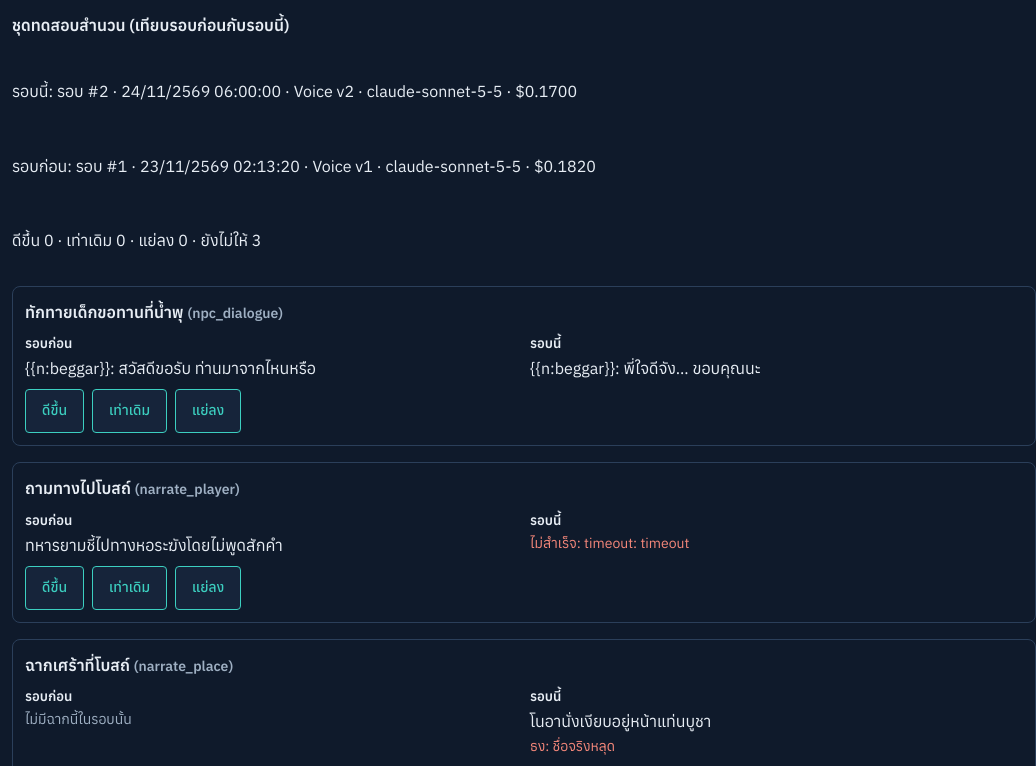
Test case: GEN-167 style eval page › C3: Nok marks better / same / worse; pressing the same again clears it; the summary follows
Click the button "ดีขึ้น" below "ทักทายเด็กขอทานที่น้ำพุ" at (54, 411), box x1=25 y1=389 x2=84 y2=433
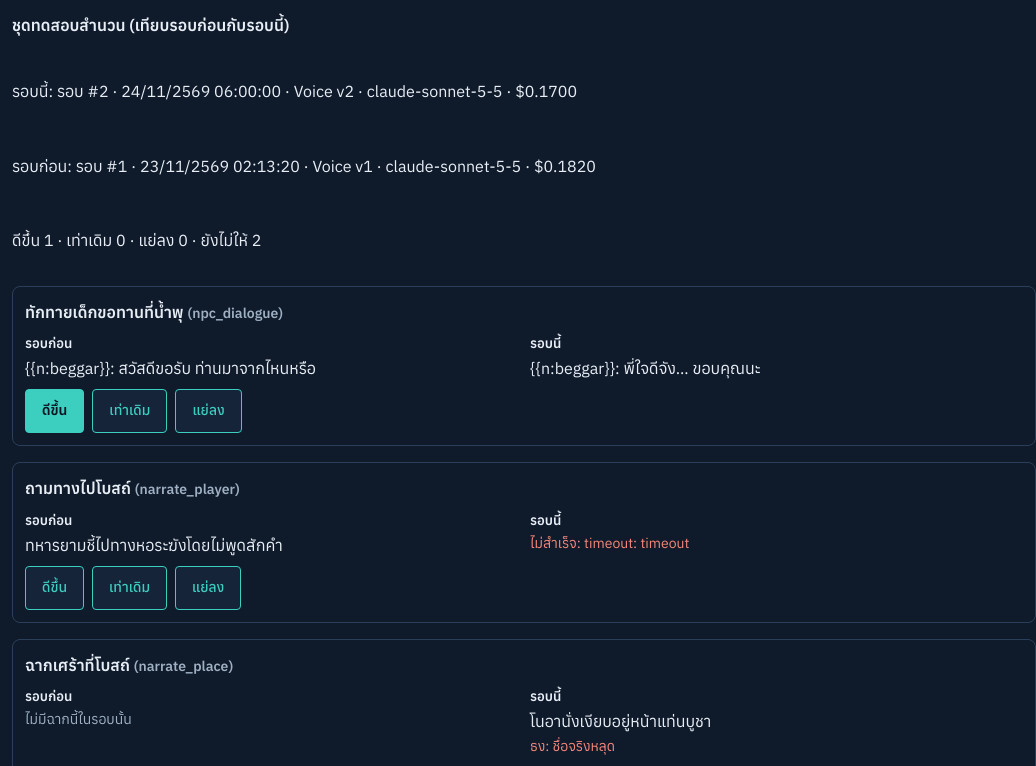
Expected: the message named "สรุปคะแนน" shows "ดีขึ้น 1", x1=12 y1=230 x2=262 y2=250
Click the button "ดีขึ้น" below "ทักทายเด็กขอทานที่น้ำพุ" at (55, 411), box x1=25 y1=389 x2=84 y2=433
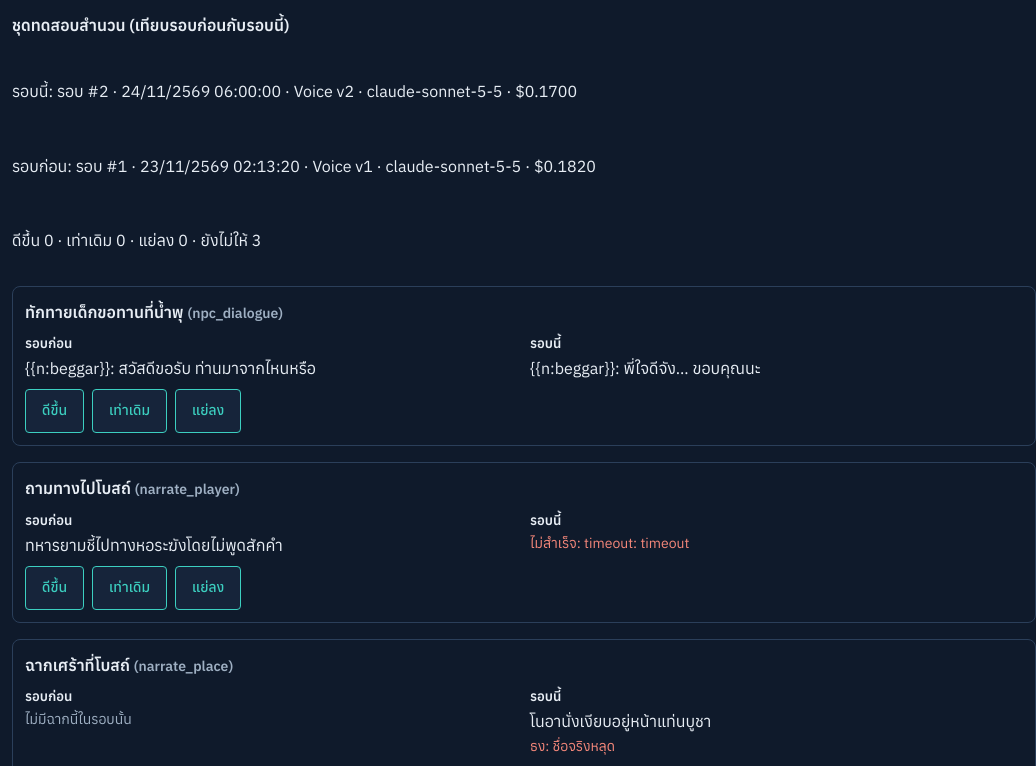
Expected: the button "ดีขึ้น" below "ทักทายเด็กขอทานที่น้ำพุ" is not pressed, x1=25 y1=389 x2=84 y2=433
